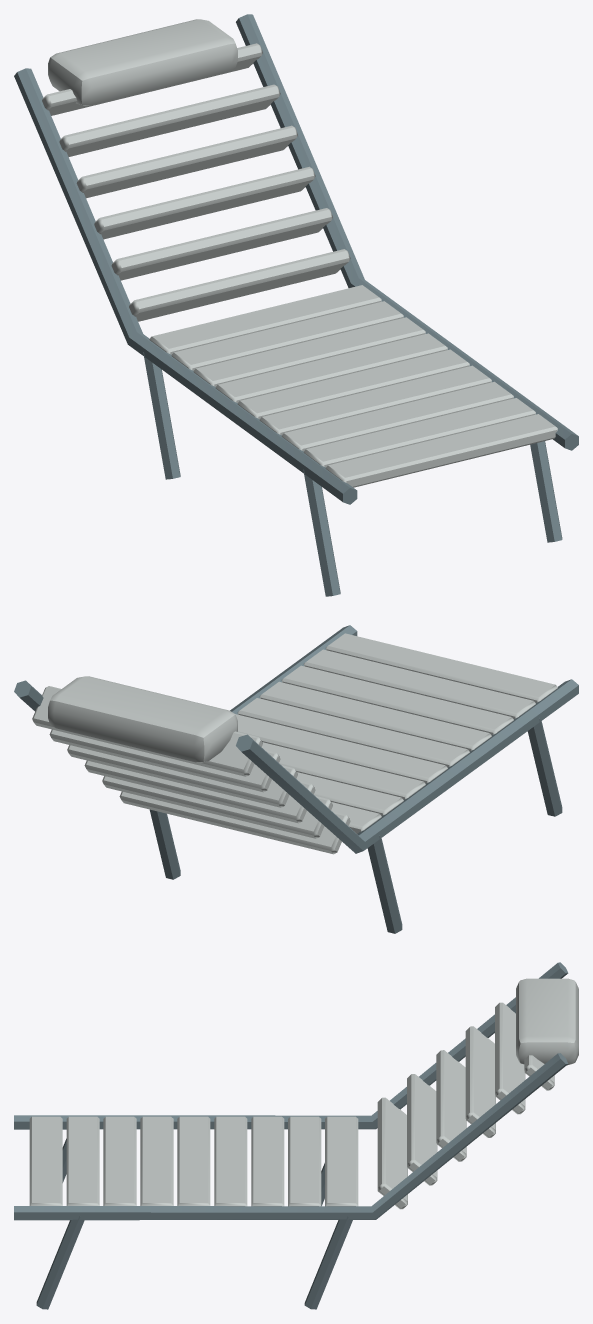
File: sun-lounger.glb
The picture shows the model from 3 angles, top to bottom: view 1: azimuth 30°, elevation 25°; view 2: azimuth 150°, elevation 25°; view 3: azimuth 270°, elevation 25°; orthographic projection. The views are drawn at different scales.
Visible parts, largest first — view 1: head_cushion, frame, frame.001, seat_slat8, back_slat, back_slat.001, back_slat.002, back_slat.003, back_slat.004, seat_slat0, seat_slat3, seat_slat1 (+9 smaller); view 2: head_cushion, frame, seat_slat4, seat_slat5, seat_slat7, seat_slat8, seat_slat6, seat_slat3, seat_slat2, back_slat, back_slat.001, back_slat.002 (+9 smaller); view 3: frame.001, head_cushion, seat_slat0, seat_slat1, seat_slat2, frame, seat_slat3, seat_slat6, seat_slat7, seat_slat8, seat_slat4, seat_slat5 (+7 smaller).
Boxes of the visible parts, x1,y1,x2,y2 form: head_cushion: [48, 19, 237, 105]; frame: [14, 68, 357, 504]; frame.001: [236, 14, 578, 450]; seat_slat8: [325, 414, 557, 487]; back_slat: [129, 249, 350, 321]; back_slat.001: [111, 208, 332, 280]; back_slat.002: [94, 166, 315, 239]; back_slat.003: [76, 125, 297, 198]; back_slat.004: [59, 84, 280, 156]; seat_slat0: [149, 285, 381, 354]; seat_slat3: [215, 333, 447, 402]; seat_slat1: [171, 301, 403, 370]; head_cushion: [48, 676, 237, 762]; frame: [236, 679, 578, 853]; seat_slat4: [237, 698, 469, 767]; seat_slat5: [259, 681, 491, 751]; seat_slat7: [303, 649, 535, 718]; seat_slat8: [325, 633, 557, 702]; seat_slat6: [281, 665, 513, 735]; seat_slat3: [235, 714, 447, 783]; seat_slat2: [261, 742, 425, 799]; back_slat: [119, 791, 350, 854]; back_slat.001: [102, 776, 332, 838]; back_slat.002: [84, 760, 315, 823]; frame.001: [14, 1053, 568, 1220]; head_cushion: [516, 978, 578, 1065]; seat_slat0: [325, 1116, 358, 1206]; seat_slat1: [288, 1116, 321, 1206]; seat_slat2: [251, 1116, 284, 1206]; frame: [14, 962, 568, 1129]; seat_slat3: [214, 1116, 247, 1206]; seat_slat6: [103, 1116, 136, 1205]; seat_slat7: [66, 1116, 99, 1205]; seat_slat8: [29, 1116, 62, 1205]; seat_slat4: [177, 1116, 210, 1205]; seat_slat5: [140, 1116, 173, 1205].
Size of the model in its own units: 0.726 by 0.8919 by 1.79.
